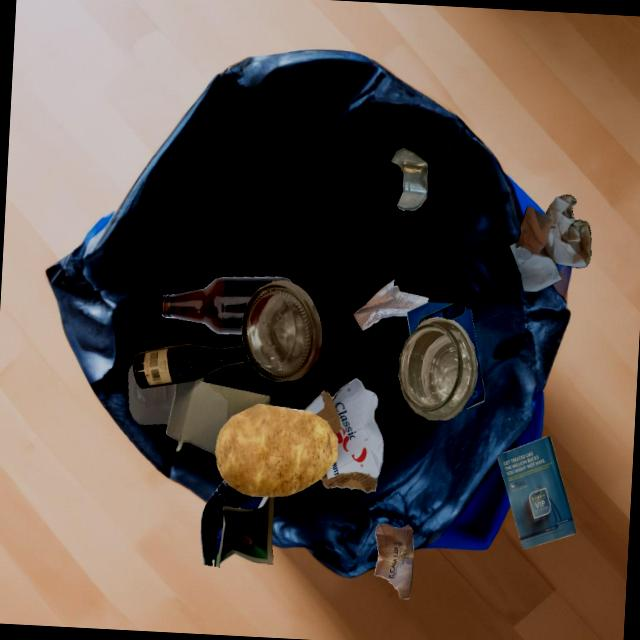biowaste: (215, 404, 338, 497)
cardboard: (305, 378, 384, 493), (166, 380, 270, 455)
glass: (242, 280, 322, 382), (399, 317, 478, 420), (162, 277, 292, 334), (133, 344, 250, 389), (391, 148, 428, 211)
paper: (497, 437, 576, 549), (407, 302, 485, 409), (510, 195, 591, 292), (201, 480, 275, 567), (353, 279, 429, 331), (374, 524, 413, 599)
plastic: (128, 364, 176, 425)
